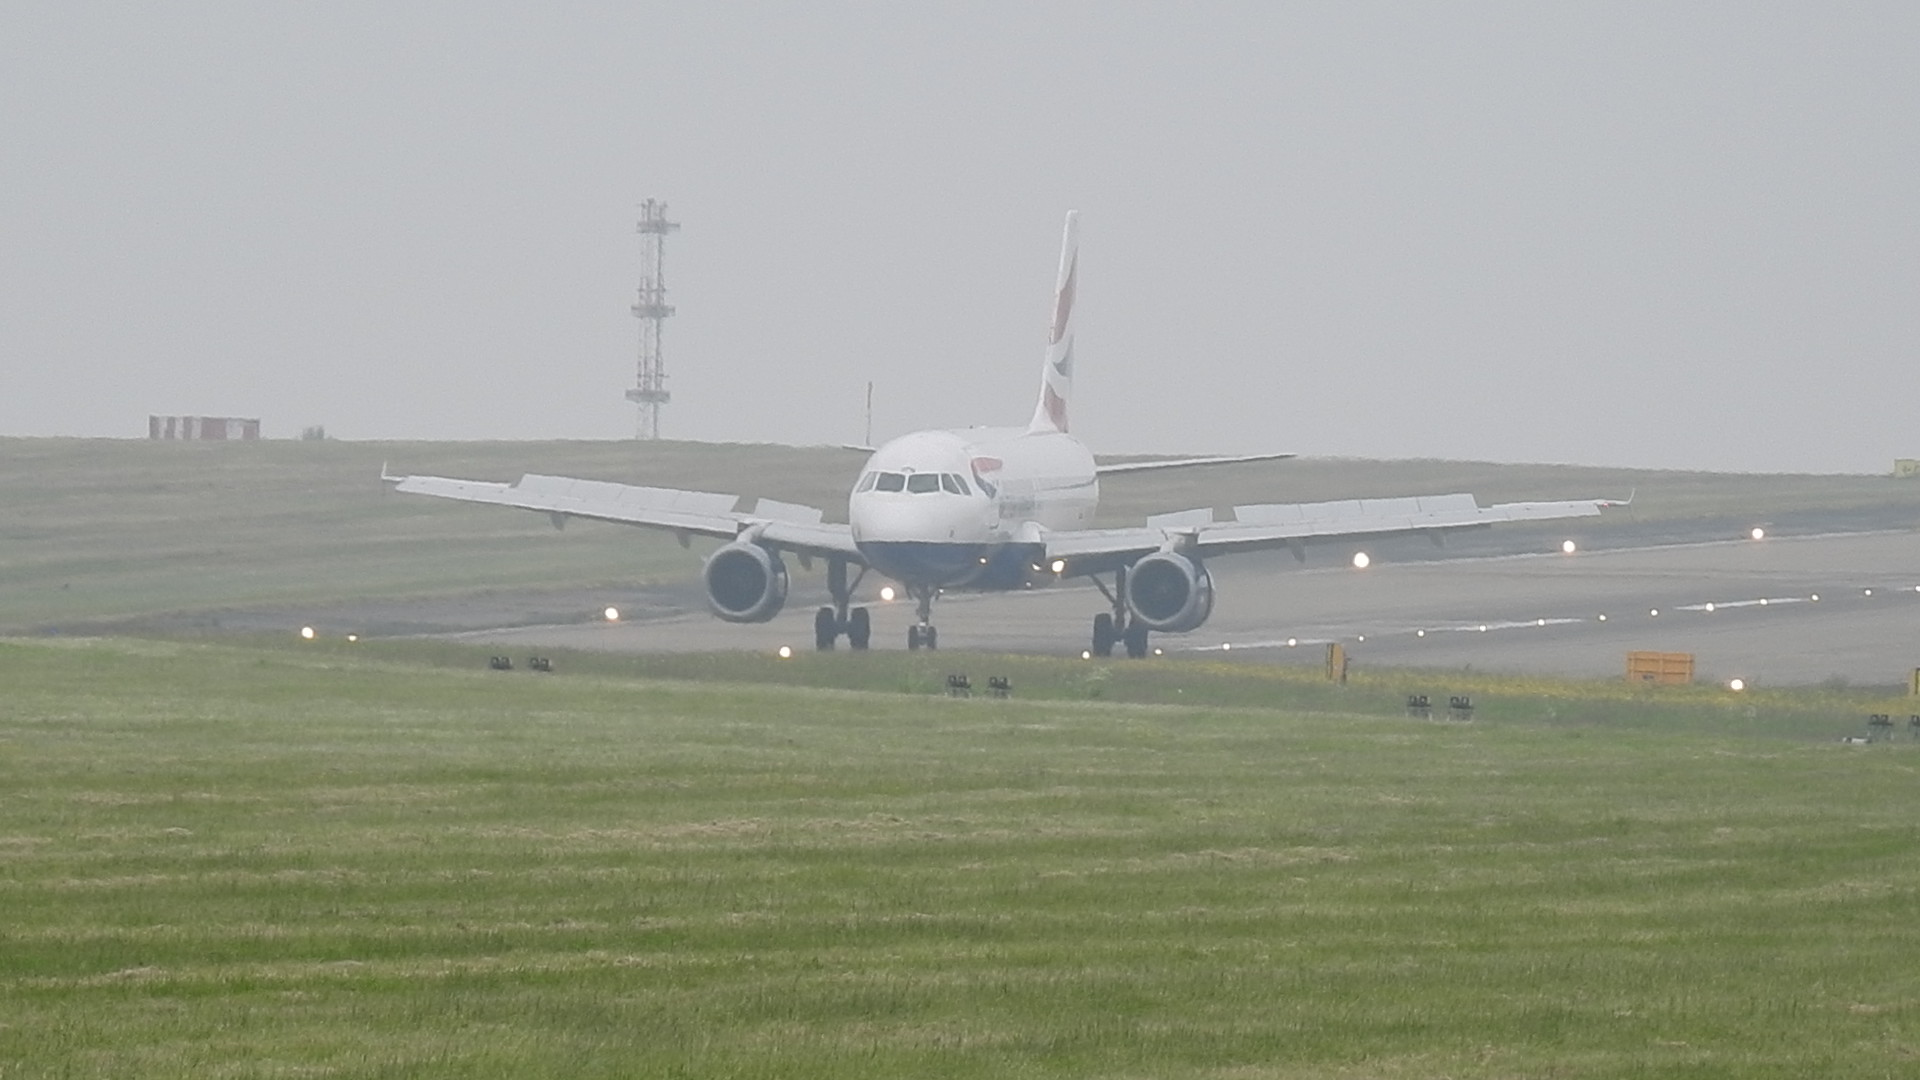aeroplane: (376, 211, 1642, 665)
